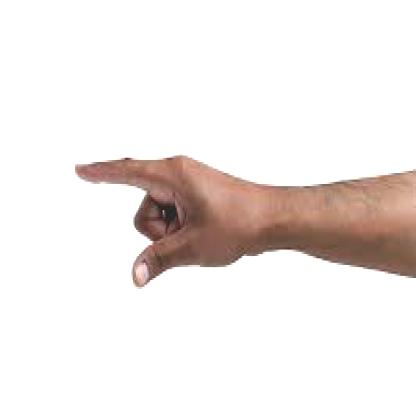Right: (70, 115, 296, 291)
